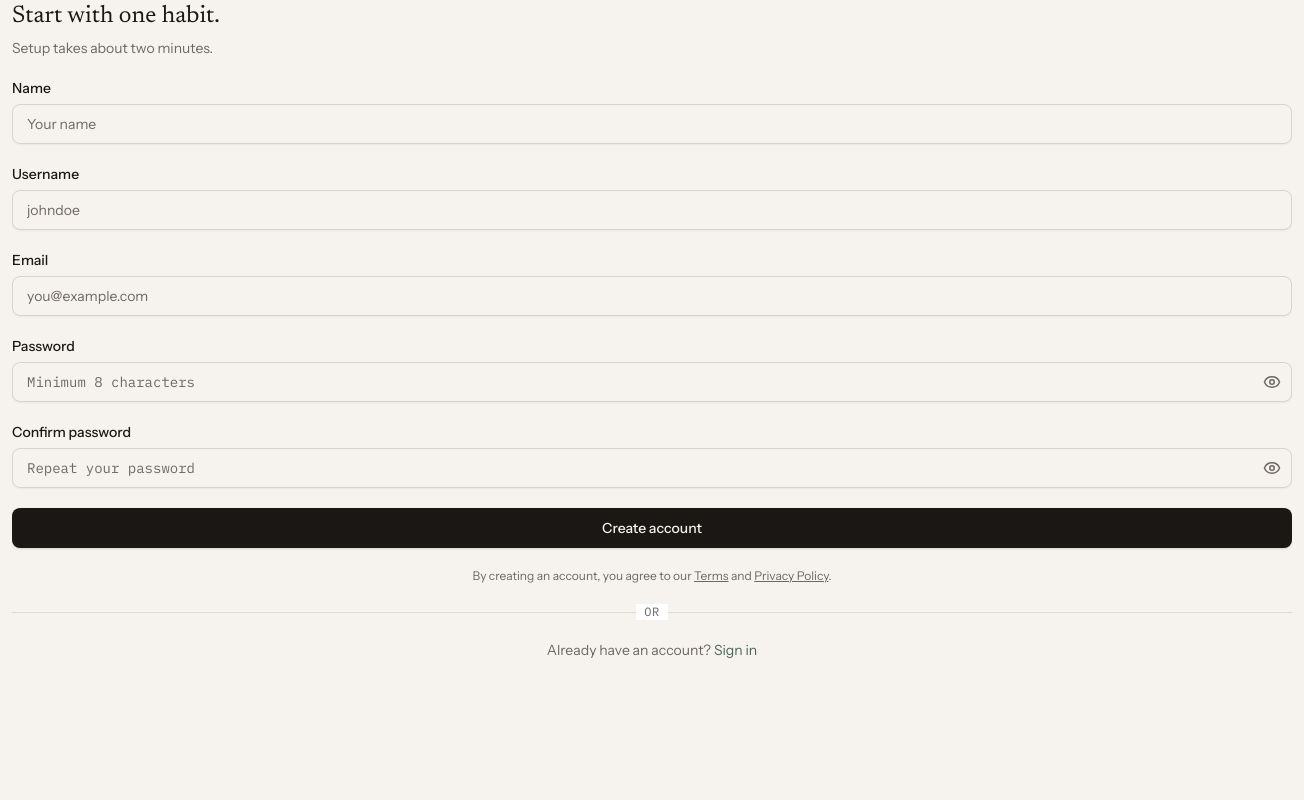
Test: RegisterForm › server-side errors › displays the error message when registration fails
This screenshot has width=1304, height=800.
Type "Jane Doe" into the field labelled "Name".
click(652, 124); type("Jane Doe")  # box [12, 104, 1292, 144]
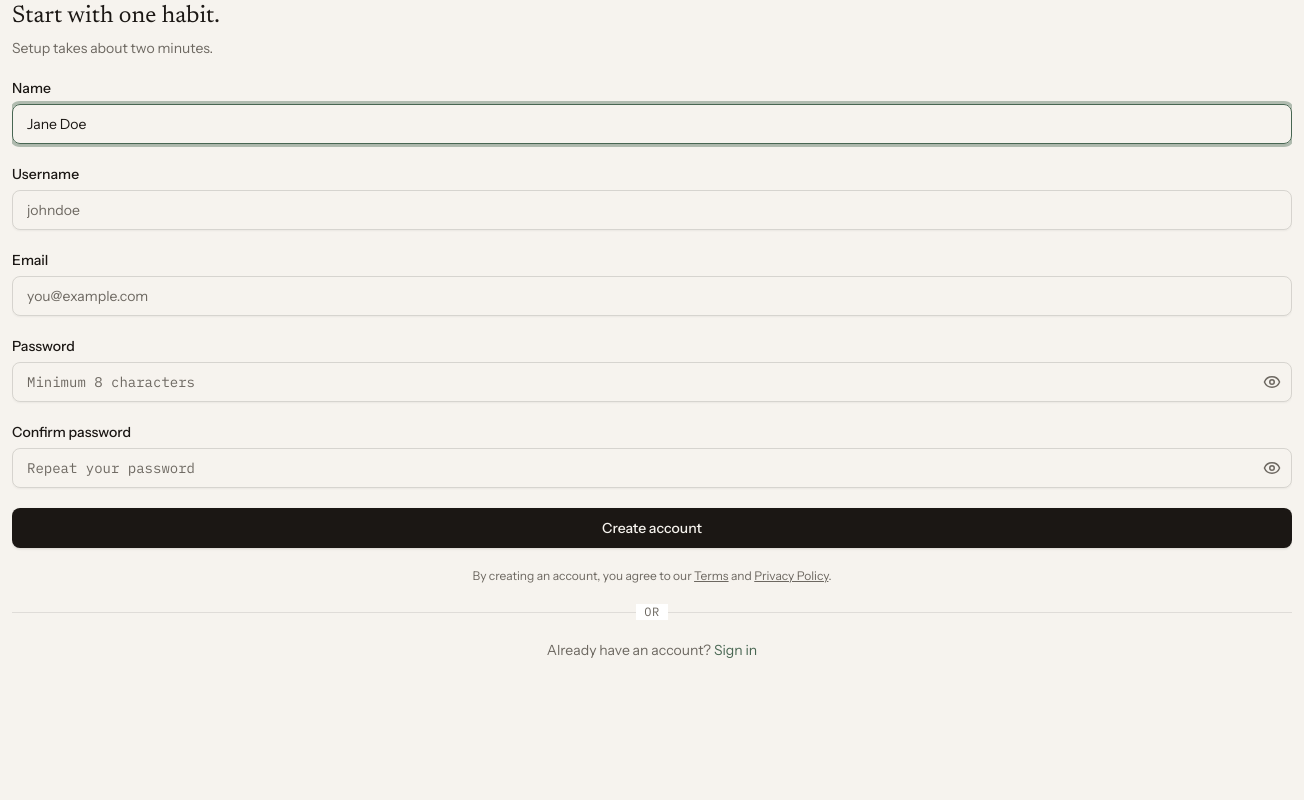
Type "janedoe" into the field labelled "Username".
click(652, 210); type("janedoe")  # box [12, 190, 1292, 230]
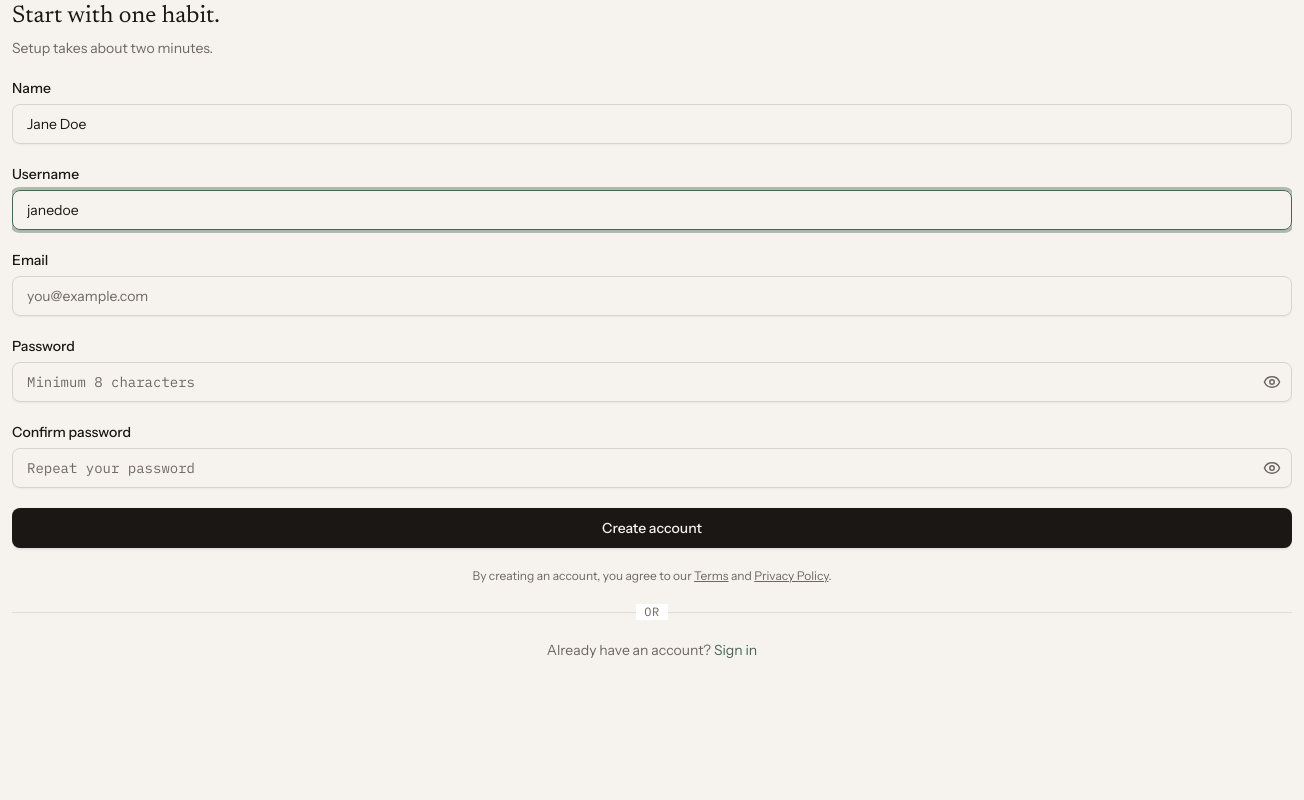
Type "jane@example.com" into the field labelled "Email".
click(652, 296); type("jane@example.com")  # box [12, 276, 1292, 316]
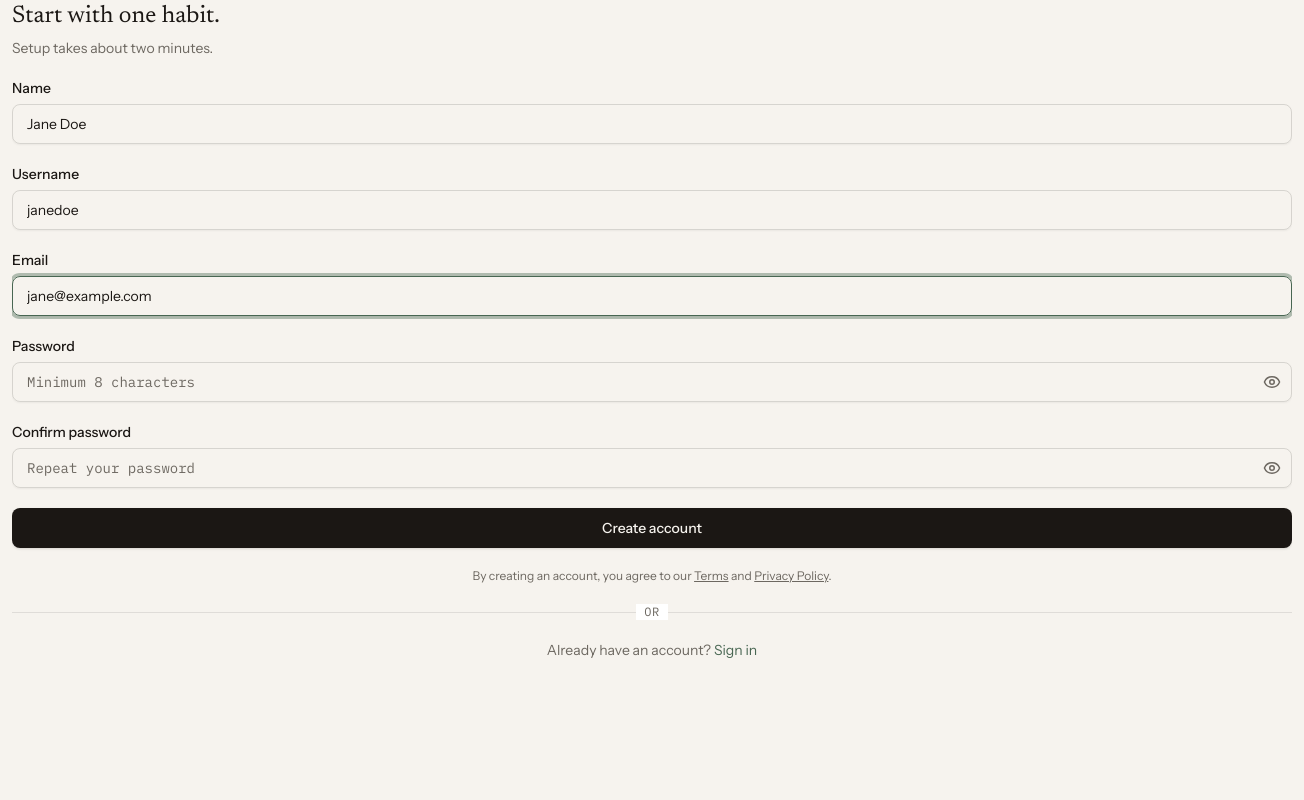
Type "Abcdef1!" into the password field labelled "Password".
click(652, 382); type("Abcdef1!")  # box [12, 362, 1292, 402]
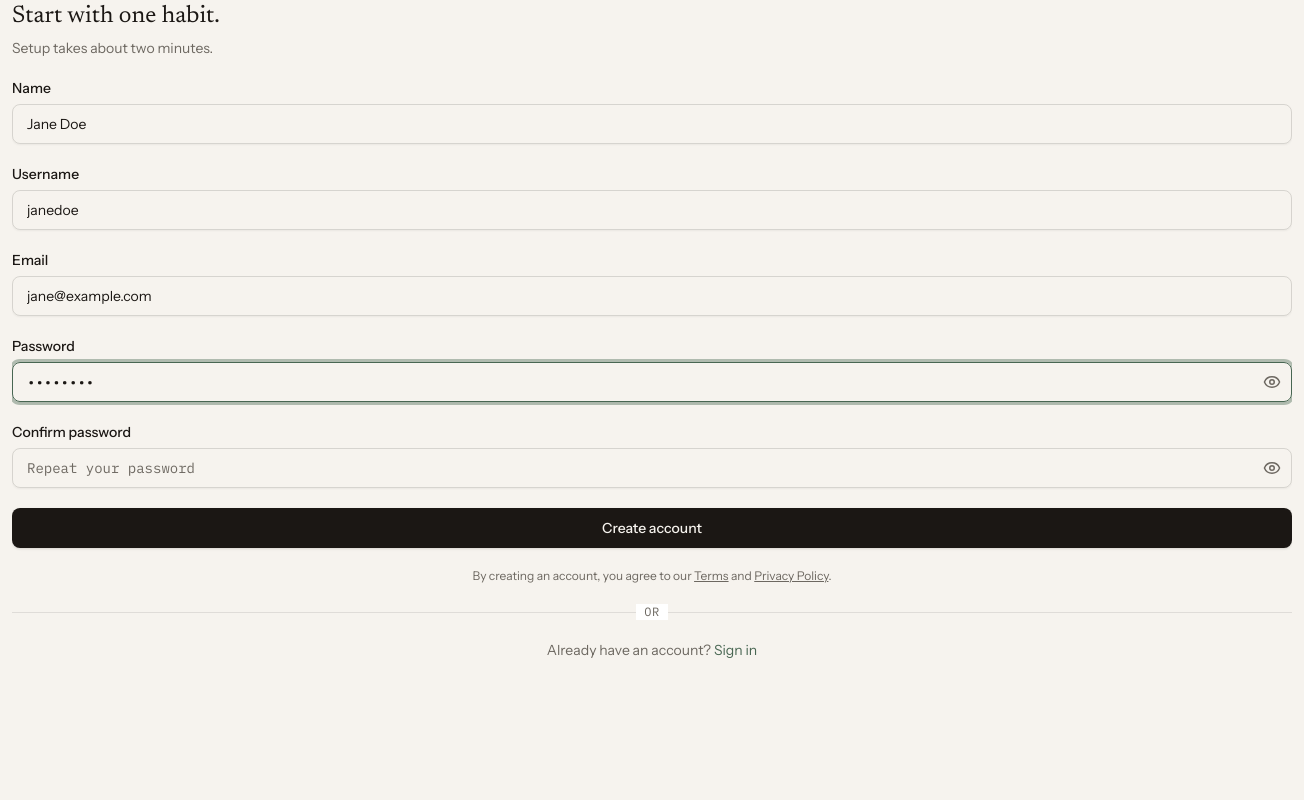
Type "Abcdef1!" into the password field labelled "Confirm password".
click(652, 468); type("Abcdef1!")  # box [12, 448, 1292, 488]
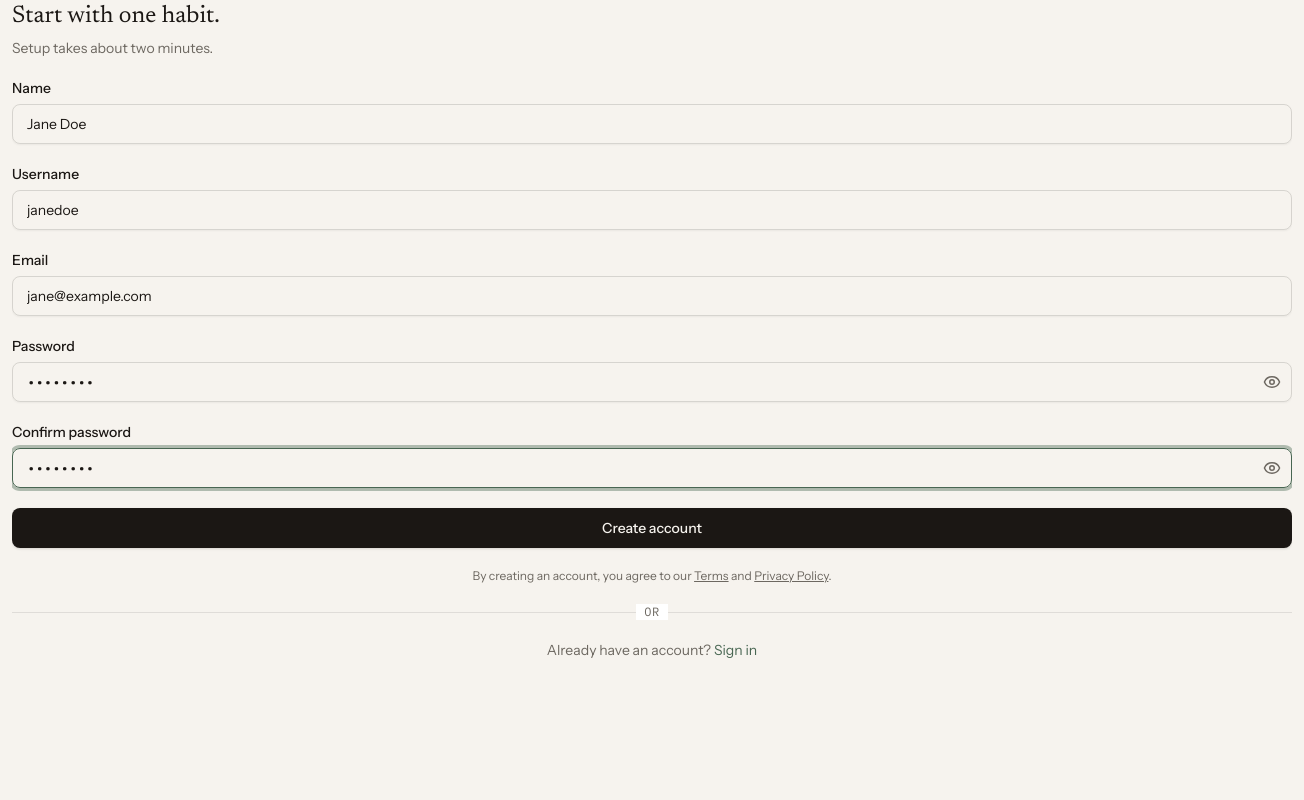
Click the button "Create account".
click(652, 528)  # box [12, 508, 1292, 548]
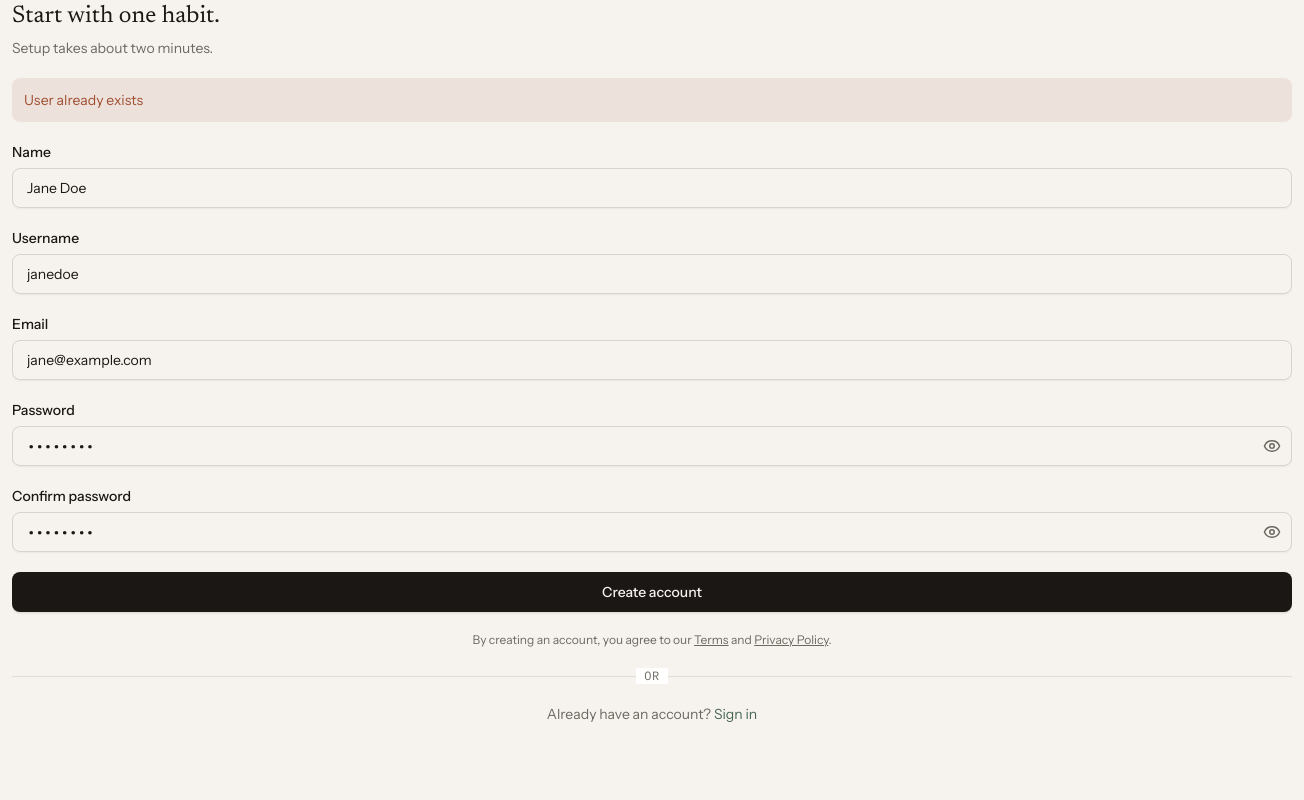
Check: the text "User already exists" is shown, box [12, 78, 1292, 122]
